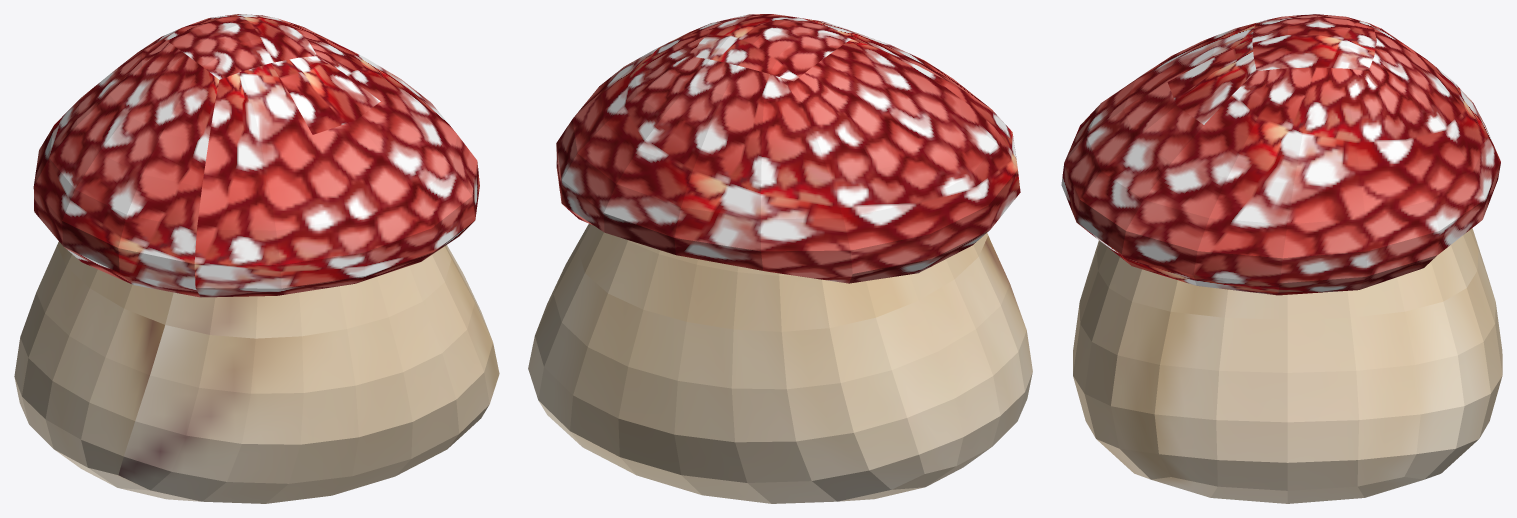
File: Red mushroom 3.fbx
3 renders of one model, left to right at view 1: azimuth 30°, elevation 25°; view 2: azimuth 150°, elevation 25°; view 3: azimuth 270°, elevation 25°, orthographic. The views are drawn at different scales.
Parts seen in each view (by area): view 1: Red mushroom 3; view 2: Red mushroom 3; view 3: Red mushroom 3.
Part boxes in pixels (x1,y1,x2,y2): Red mushroom 3: [14, 14, 499, 503]; Red mushroom 3: [528, 14, 1032, 503]; Red mushroom 3: [1061, 14, 1502, 503].
Bounding box in the file's own units: 926 × 918 × 848.
Materials: 2 (2 with a texture image).
